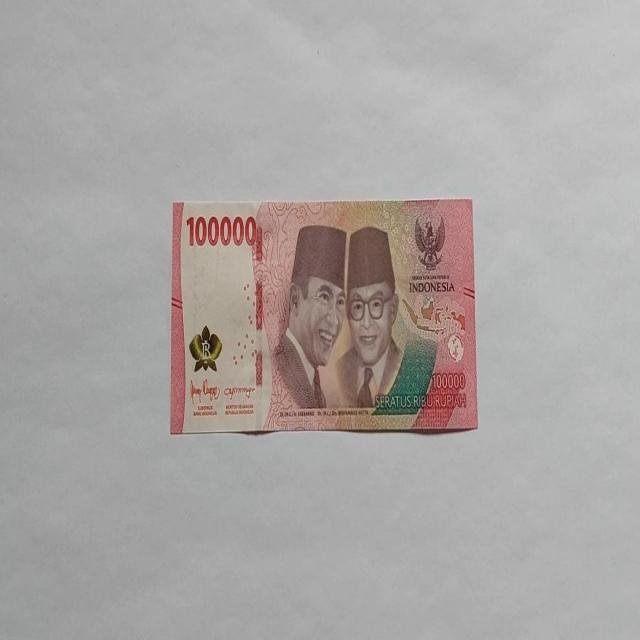Kertas: (170, 197, 478, 436), (185, 211, 257, 249)
